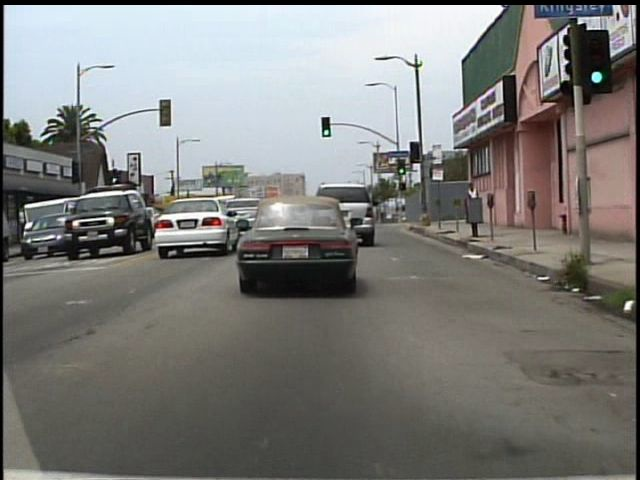person: (462, 183, 480, 230)
